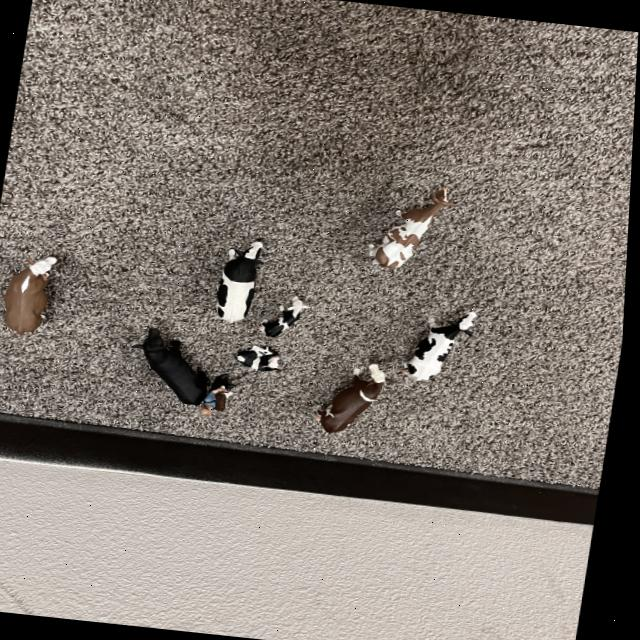cow: (368, 173, 458, 276), (135, 319, 224, 413), (399, 293, 481, 389), (314, 354, 398, 442), (0, 248, 60, 338), (216, 235, 265, 325), (262, 291, 313, 344), (237, 341, 285, 374), (219, 391, 232, 411)
person: (203, 405, 218, 417)
